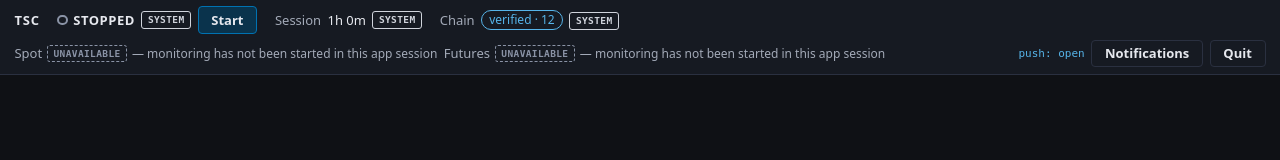
it: StatusBar › shows a refused transition (423) as an error
The image size is (1280, 160).
Click the button "Start" at (227, 20), box [198,6,257,34]
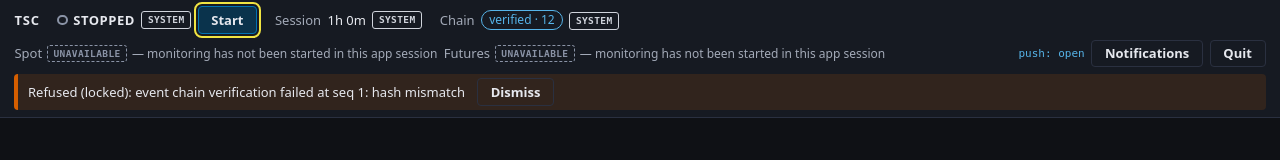
Expected: the element with test id "monitoring-state" reads "STOPPED", [73,11,135,29]
Expected: the text "Refused (locked): event chain verification failed" is shown, [28,83,465,101]
